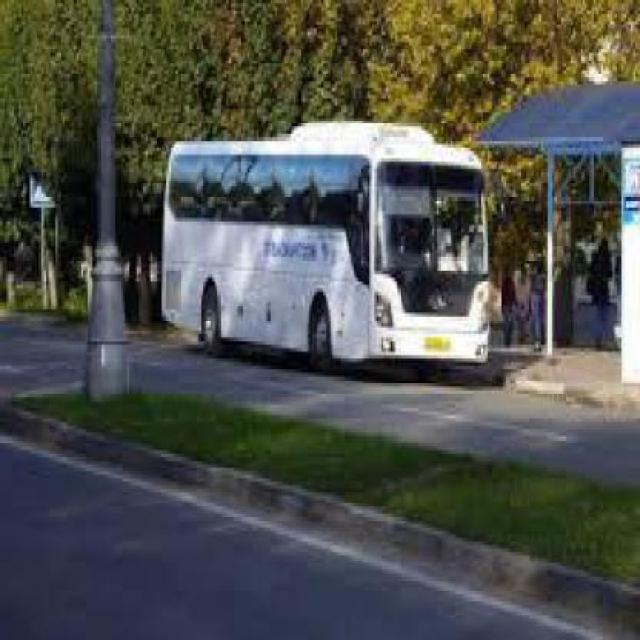bus: (154, 120, 491, 362)
